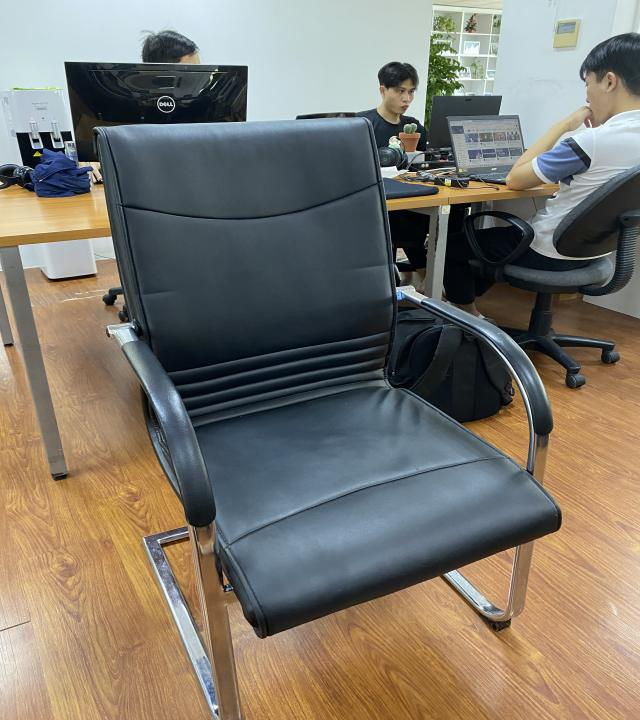SS_03: (90, 115, 562, 720)
